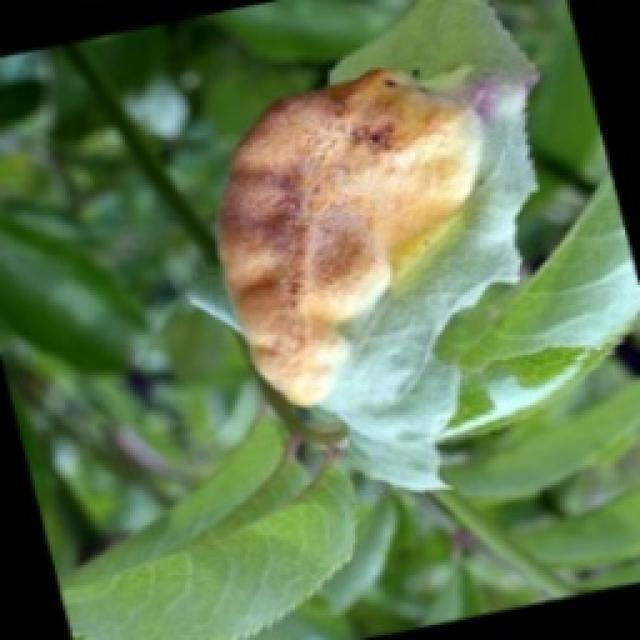Elderberry_rust: (212, 65, 488, 410)
